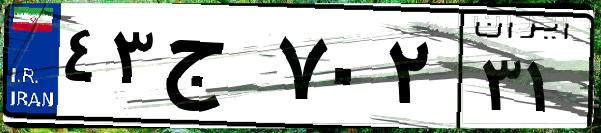0: (330, 28, 385, 110)
1: (525, 38, 570, 115)
2: (385, 28, 445, 110)
3: (475, 38, 525, 113), (110, 28, 158, 98)
4: (57, 26, 110, 100)
7: (270, 28, 330, 110)
ج: (158, 20, 270, 120)
